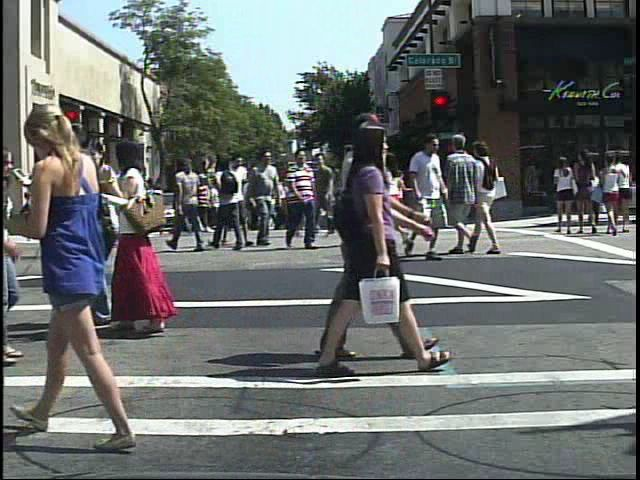person: (39, 85, 154, 455), (302, 117, 420, 381), (112, 134, 196, 343), (361, 106, 419, 367), (83, 130, 127, 332), (466, 134, 513, 265), (282, 141, 329, 253), (338, 138, 380, 252), (409, 134, 452, 239), (444, 131, 478, 255), (211, 151, 250, 257), (246, 147, 284, 255), (374, 145, 412, 249), (217, 150, 254, 253), (171, 151, 207, 255), (553, 152, 581, 236), (191, 170, 212, 239), (66, 182, 86, 232)
